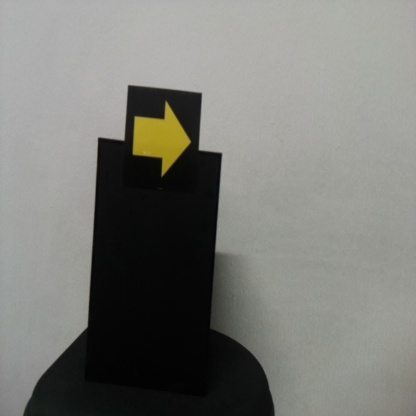id_3: (127, 86, 200, 190)
